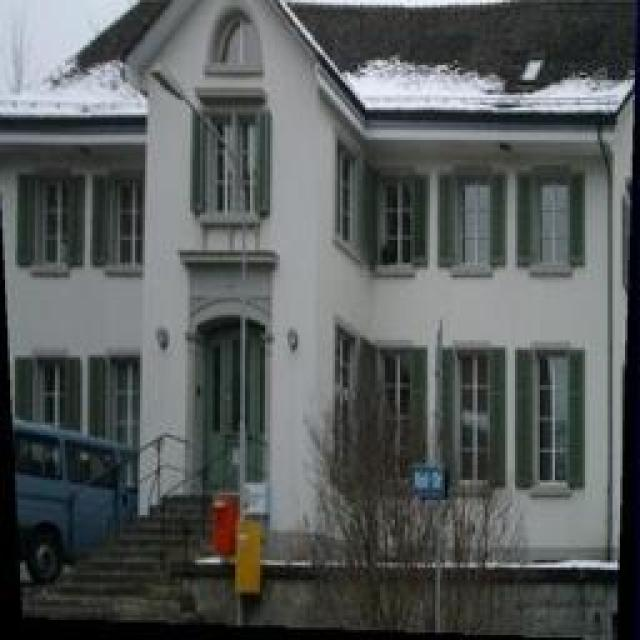building: (2, 5, 638, 617)
